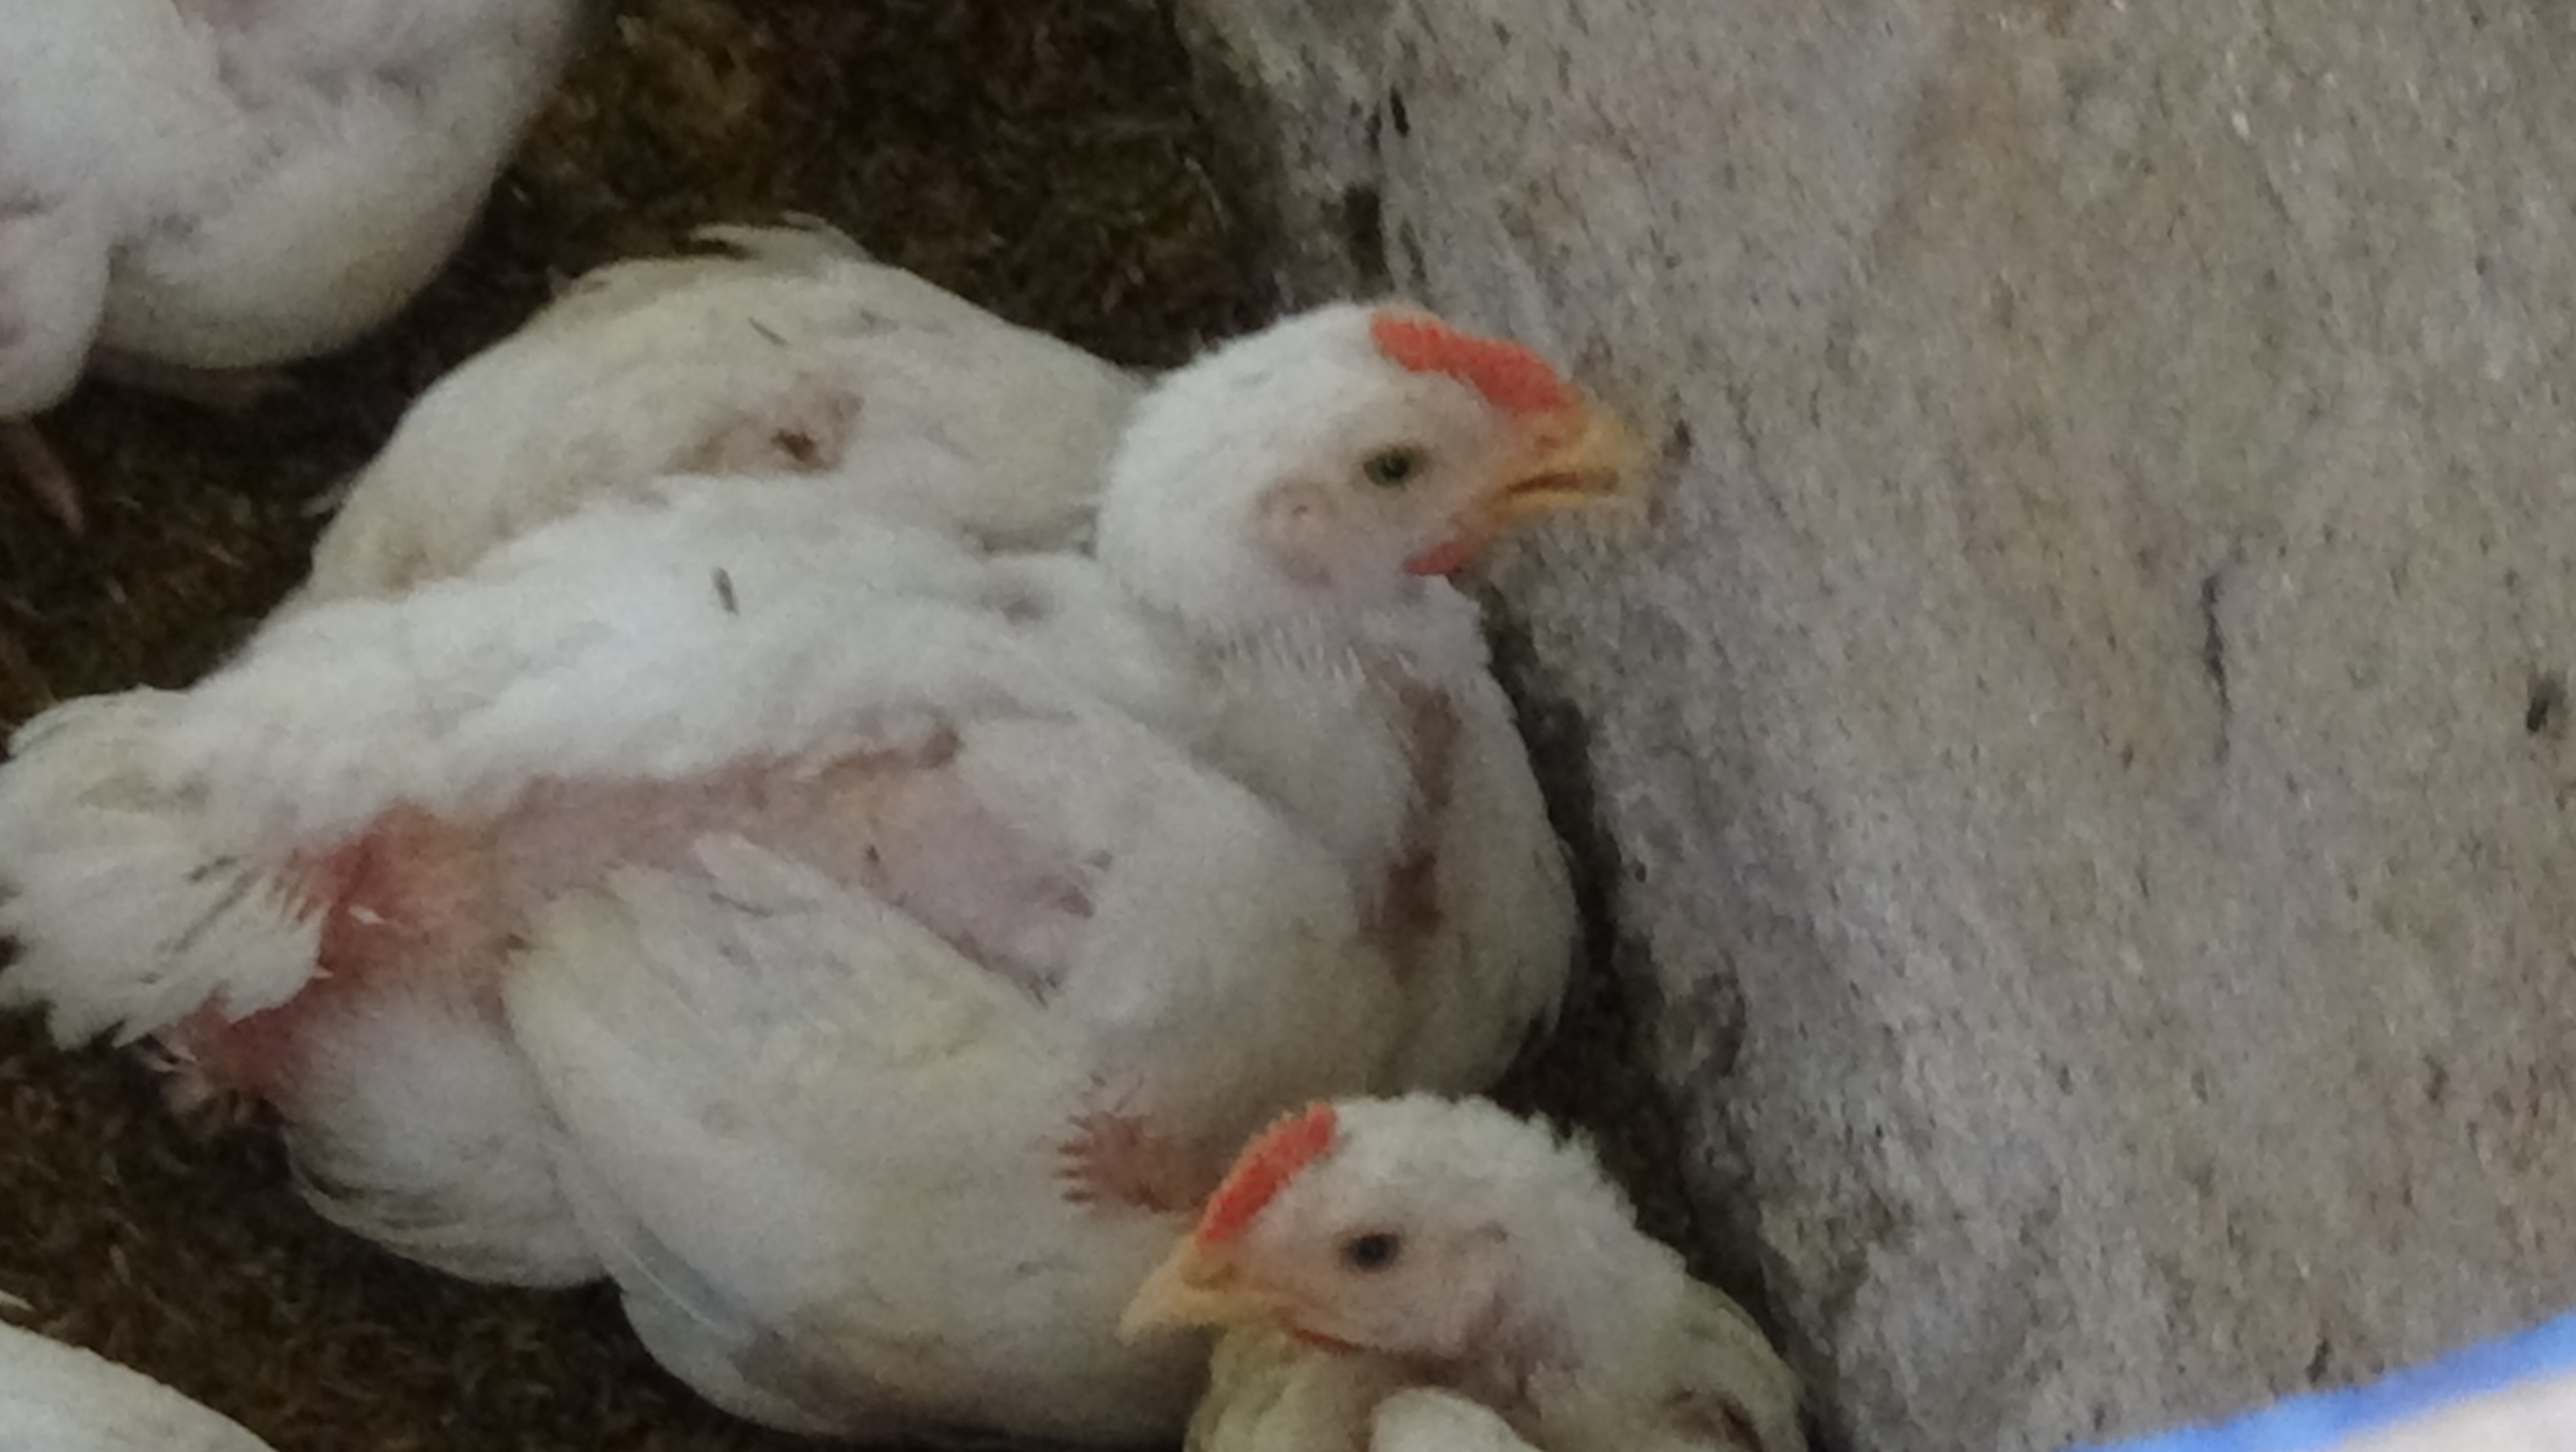Pollos: (134, 191, 1672, 1452), (1104, 1018, 1897, 1452)
